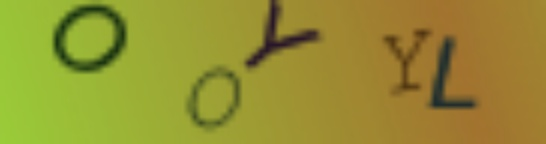L: (424, 32, 486, 112)
O: (50, 1, 132, 76), (181, 65, 246, 134)
Y: (242, 1, 327, 70), (377, 22, 435, 92)
